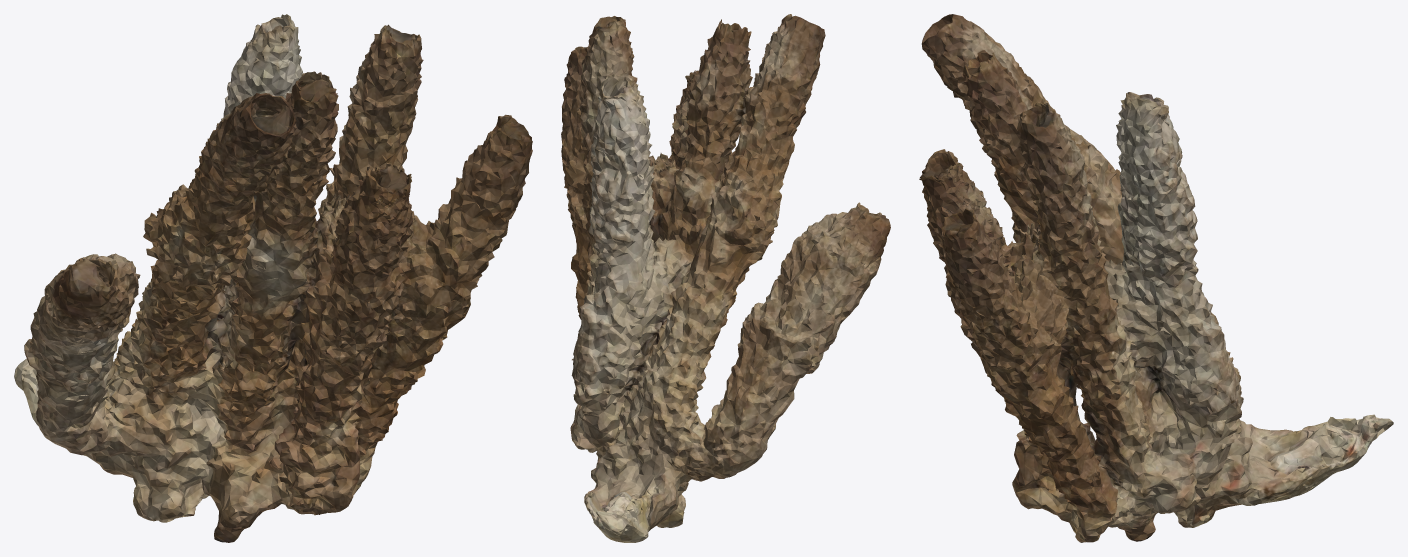
File: sponge-touch.glb
3 views of the same model, side by side, from view 1: azimuth 30°, elevation 25°; view 2: azimuth 150°, elevation 25°; view 3: azimuth 270°, elevation 25° (orthographic). The views are drawn at different scales.
Visible parts, largest first — view 1: Object_2; view 2: Object_2; view 3: Object_2.
Boxes of the visible parts, x1,y1,x2,y2 form: Object_2: (14, 14, 532, 542); Object_2: (561, 14, 890, 542); Object_2: (919, 14, 1393, 542).
Size of the model in its own units: 0.8307 by 0.9997 by 0.8647.
1 material, 1 textured.
